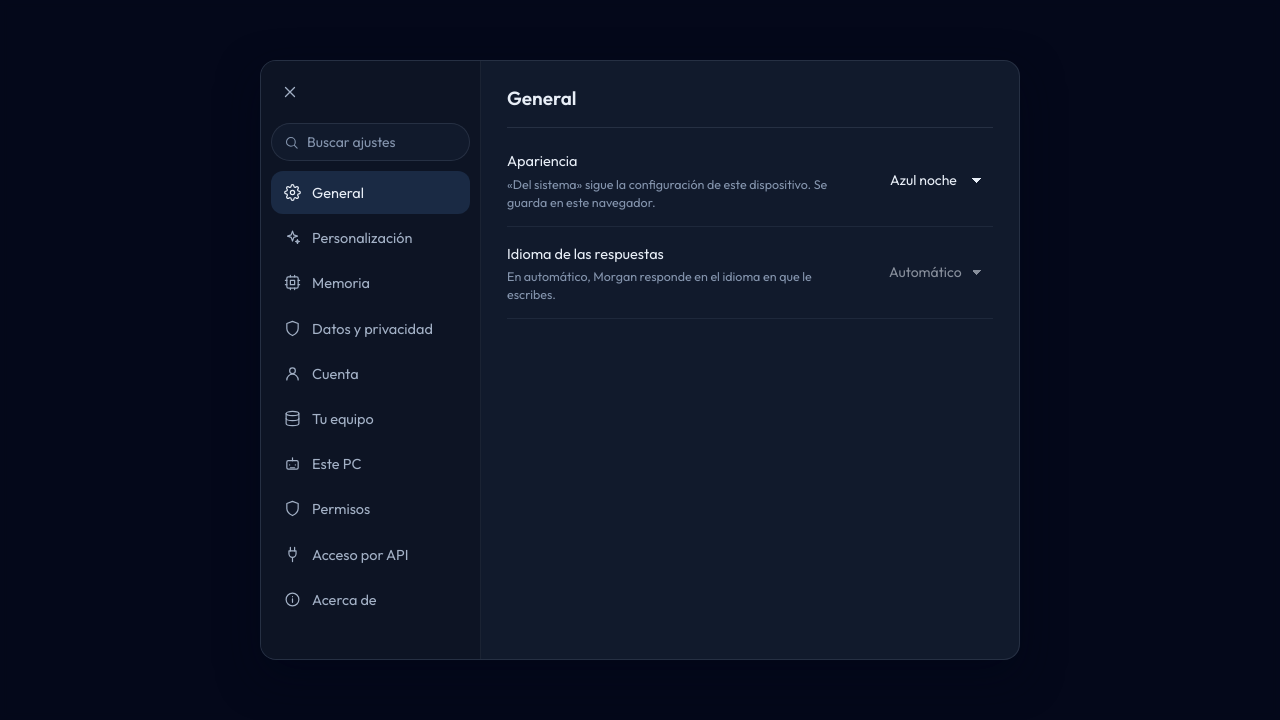
Test: la sección › sale dentro del programa
Click the button "Este PC": (370, 464) [271,442,470,485]
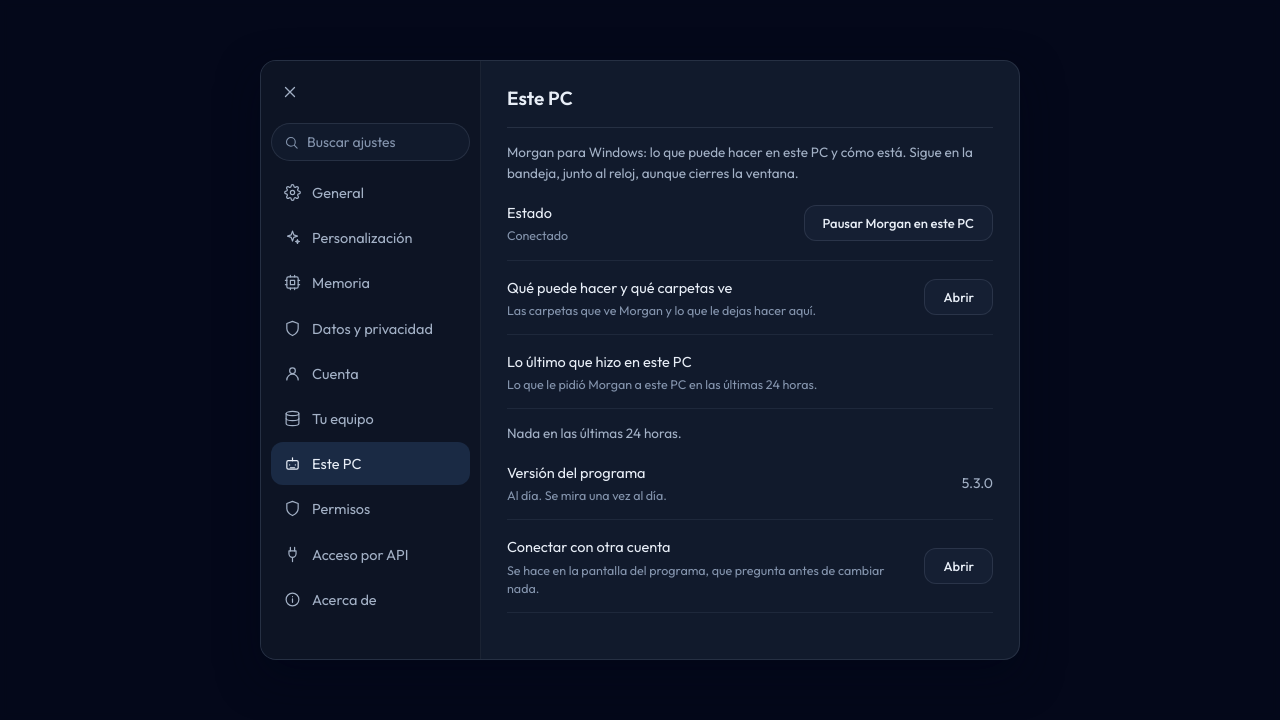
Expected: the text "Conectado" is shown, [507,227,568,243]
